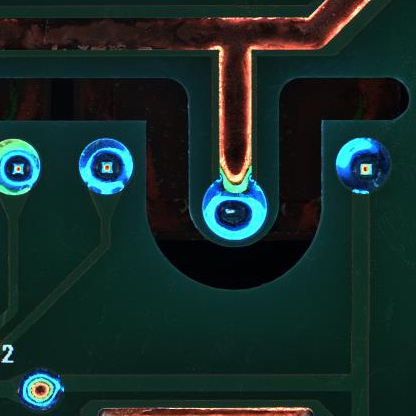spot: (199, 178, 269, 239), (76, 136, 136, 195), (336, 138, 391, 193), (1, 140, 43, 198), (18, 368, 63, 407)
